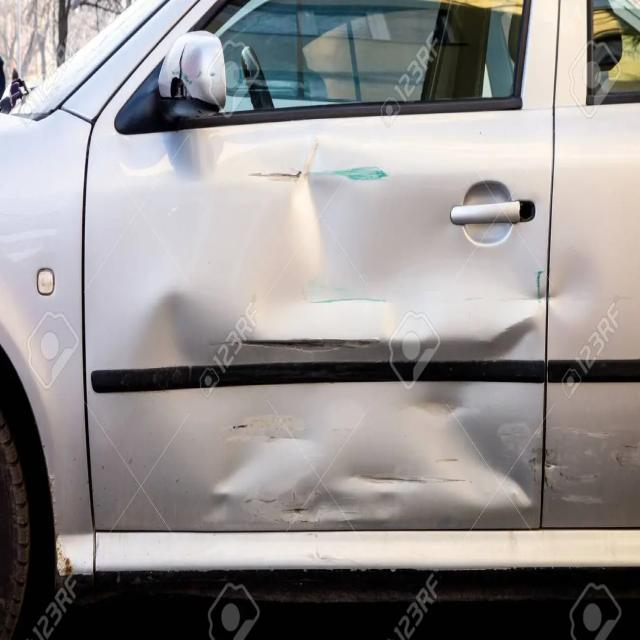crush: (107, 43, 640, 531)
